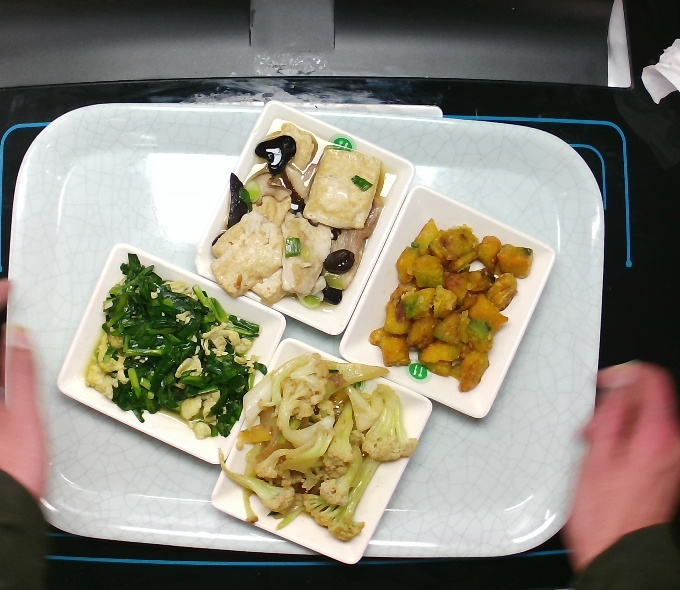wcq-DanHuangNanGua: (366, 213, 536, 395)
wcq-JiaChangDouFu: (206, 119, 388, 314)
wcq-JiuCaiJiDan: (83, 250, 268, 441)
wcq-QiuCai: (220, 352, 422, 545)
